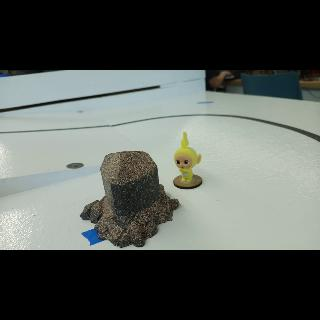teletubby: (174, 132, 202, 182)
